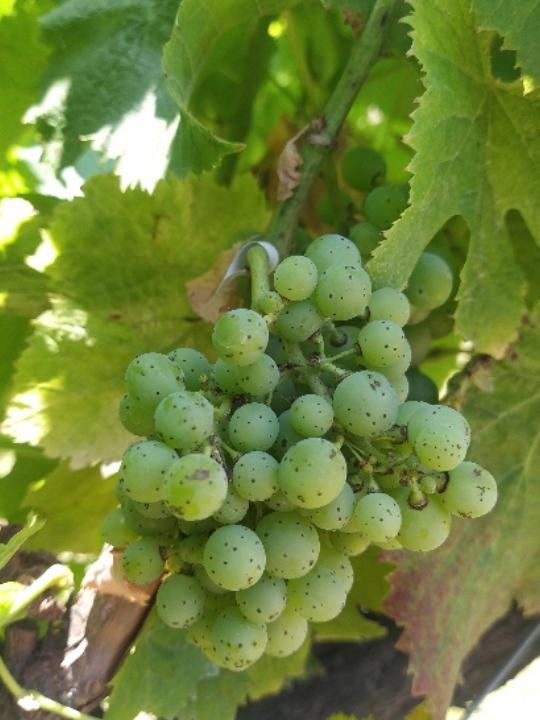grape: (95, 229, 499, 674)
